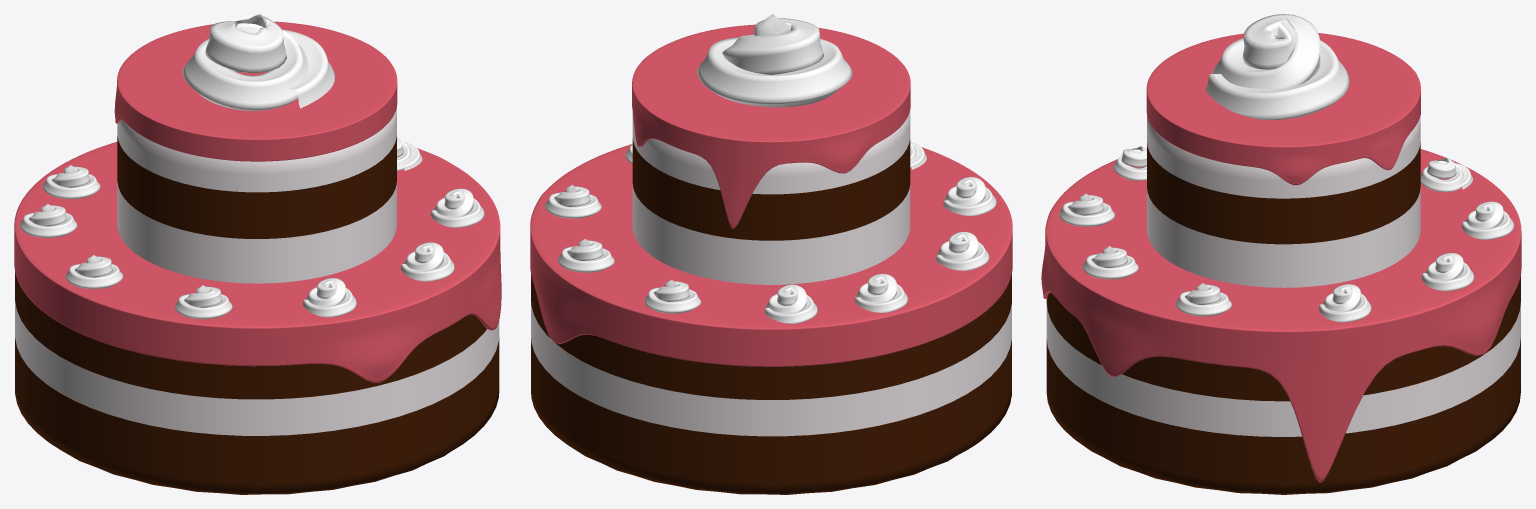
Rendered from Supermarket_Run_Finish_Cake.fbx.
3 views of the same model, side by side, from view 1: azimuth 30°, elevation 25°; view 2: azimuth 150°, elevation 25°; view 3: azimuth 270°, elevation 25° (orthographic). The views are drawn at different scales.
Visible parts, largest first — view 1: Supermarket_Run_Cake_Bottom, Supermarket_Run_Creme_Bottom, Supermarket_Run_Cake_Top, Supermarket_Run_Creme_Top, Creme11, Creme06, Creme04, Creme05, Creme07, Creme08, Creme10, Creme09 (+1 smaller); view 2: Supermarket_Run_Cake_Bottom, Supermarket_Run_Creme_Bottom, Supermarket_Run_Cake_Top, Supermarket_Run_Creme_Top, Creme11, Creme10, Creme09, Creme07, Creme08, Creme01, Creme03, Creme02; view 3: Supermarket_Run_Creme_Bottom, Supermarket_Run_Cake_Bottom, Supermarket_Run_Cake_Top, Supermarket_Run_Creme_Top, Creme11, Creme01, Creme03, Creme02, Creme10, Creme05, Creme04, Creme06 (+1 smaller).
Boxes of the visible parts, x1,y1,x2,y2 form: Supermarket_Run_Cake_Bottom: (15,272,499,494); Supermarket_Run_Creme_Bottom: (14,142,501,382); Supermarket_Run_Cake_Top: (117,107,396,283); Supermarket_Run_Creme_Top: (114,21,397,161); Creme11: (182,14,335,110); Creme06: (430,188,484,227); Creme04: (303,278,356,317); Creme05: (401,242,454,281); Creme07: (174,285,232,319); Creme08: (65,255,123,288); Creme10: (42,165,100,199); Creme09: (19,204,77,237); Supermarket_Run_Cake_Bottom: (531,274,1011,494); Supermarket_Run_Creme_Bottom: (530,144,1012,366); Supermarket_Run_Cake_Top: (632,110,910,284); Supermarket_Run_Creme_Top: (632,24,910,228); Creme11: (697,14,852,107); Creme10: (764,284,817,323); Creme09: (854,273,907,312); Creme07: (943,177,996,215); Creme08: (936,231,989,270); Creme01: (644,279,701,313); Creme03: (545,184,601,218); Creme02: (558,238,614,272); Supermarket_Run_Creme_Bottom: (1041,149,1521,482); Supermarket_Run_Cake_Bottom: (1046,275,1520,494); Supermarket_Run_Cake_Top: (1147,115,1420,287); Supermarket_Run_Creme_Top: (1146,33,1420,185); Creme11: (1205,14,1349,119); Creme01: (1461,201,1514,239); Creme03: (1319,284,1371,322); Creme02: (1421,253,1474,291); Creme10: (1420,157,1472,192); Creme05: (1082,246,1138,279); Creme04: (1058,193,1115,226); Creme06: (1175,283,1231,316).
Bounding box in the file's own units: 127 × 112 × 128.
